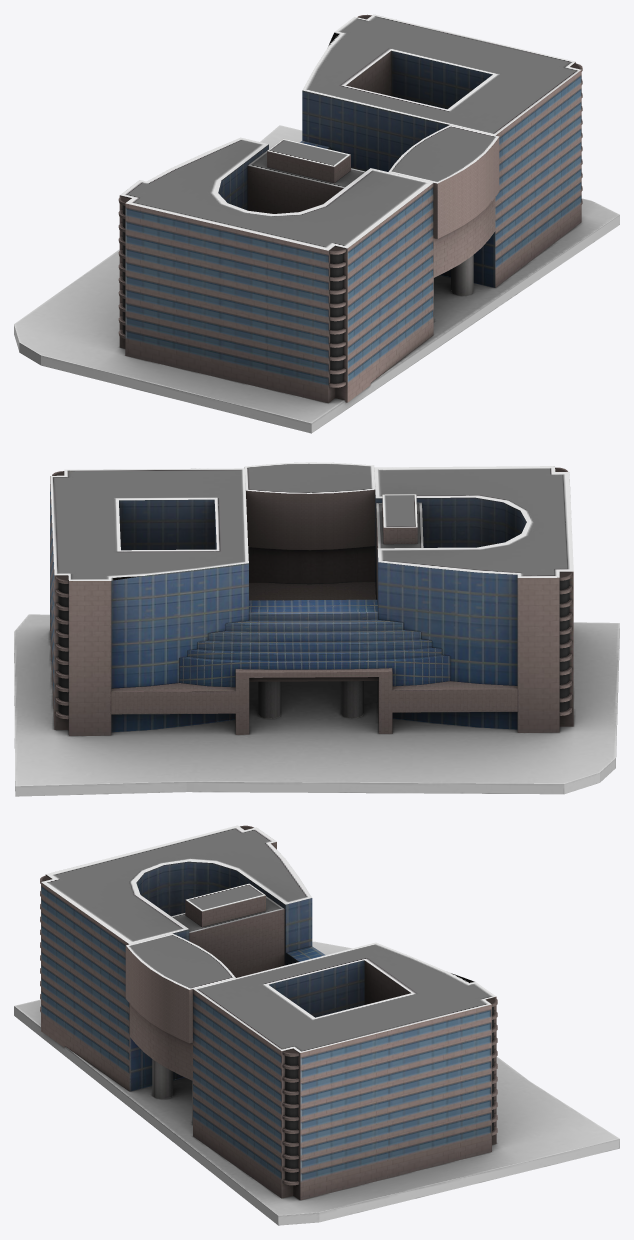
Rendered from whhq.gltf.
3 views of the same model, one above another, from view 1: azimuth 30°, elevation 25°; view 2: azimuth 150°, elevation 25°; view 3: azimuth 270°, elevation 25° (orthographic). The views are drawn at different scales.
Visible parts, largest first — view 1: group1 pCube2, group1 pCube4, pCube1, group1 pCube16, group1 pCube3, group1 pCube19, group1 pCube17, group3 group1 group8 pCube6, pCylinder3; view 2: pCube1, group1 pCube4, group1 pCube2, group1 pCube20, group1 pCube18, group1 pCube16, group1 pCube17, group1 pCube19, group3 group1 pCube6 group7, group3 group1 pCube6 group9, pCylinder1, pCylinder2 (+1 smaller); view 3: group1 pCube4, group1 pCube2, pCube1, group1 pCube16, group1 pCube3, group1 pCube19, group1 pCube17, group6 group3 group1 pCube6, pCylinder4.
Boxes of the visible parts, bbox=[...] form: group1 pCube2: bbox=[119, 137, 433, 403]; group1 pCube4: bbox=[302, 14, 581, 287]; pCube1: bbox=[14, 125, 619, 433]; group1 pCube16: bbox=[388, 125, 499, 238]; group1 pCube3: bbox=[247, 149, 365, 213]; group1 pCube19: bbox=[267, 138, 350, 182]; group1 pCube17: bbox=[433, 198, 495, 277]; group3 group1 group8 pCube6: bbox=[330, 253, 343, 383]; pCylinder3: bbox=[451, 255, 473, 295]; pCube1: bbox=[14, 614, 619, 796]; group1 pCube4: bbox=[50, 468, 248, 735]; group1 pCube2: bbox=[374, 466, 573, 732]; group1 pCube20: bbox=[179, 599, 450, 687]; group1 pCube18: bbox=[111, 582, 517, 734]; group1 pCube16: bbox=[244, 462, 375, 550]; group1 pCube17: bbox=[248, 546, 374, 584]; group1 pCube19: bbox=[382, 494, 417, 544]; group3 group1 pCube6 group7: bbox=[58, 583, 68, 715]; group3 group1 pCube6 group9: bbox=[559, 579, 569, 711]; pCylinder1: bbox=[258, 681, 281, 718]; pCylinder2: bbox=[340, 681, 363, 718]; group1 pCube4: bbox=[193, 942, 496, 1200]; group1 pCube2: bbox=[41, 825, 312, 1091]; pCube1: bbox=[14, 941, 619, 1225]; group1 pCube16: bbox=[125, 933, 235, 1043]; group1 pCube3: bbox=[171, 896, 284, 977]; group1 pCube19: bbox=[185, 883, 265, 926]; group1 pCube17: bbox=[129, 1004, 192, 1080]; group6 group3 group1 pCube6: bbox=[285, 1056, 297, 1181]; pCylinder4: bbox=[152, 1059, 173, 1099].
Size of the model in its own units: 14.93 by 4.28 by 13.95.
Materials: 1 (1 with a texture image).
